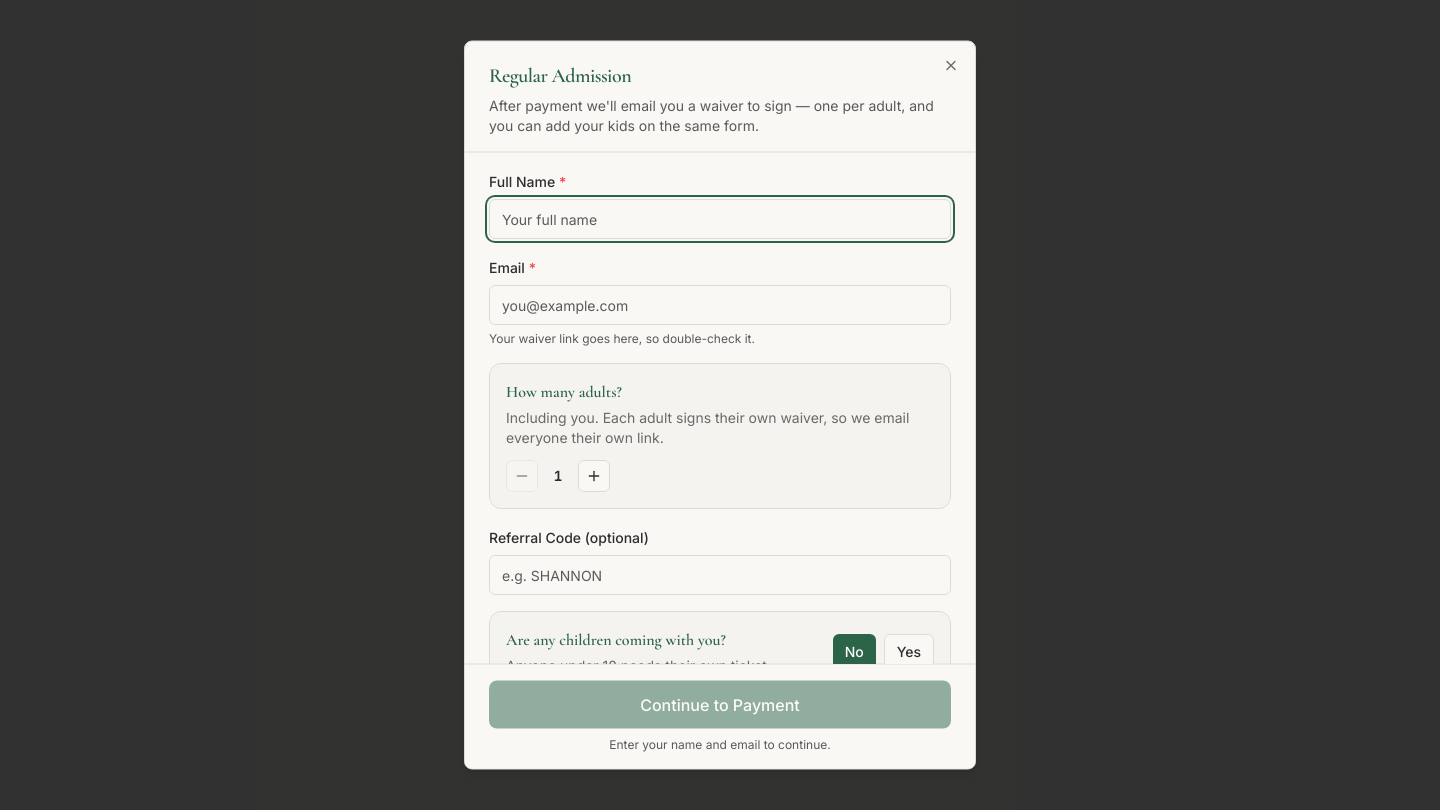
the Yes path still prices correctly › two rapid taps count as two tickets, not one
Type "Test Buyer" into the field with placeholder "Your full name" at (720, 218), box [489, 198, 951, 238]
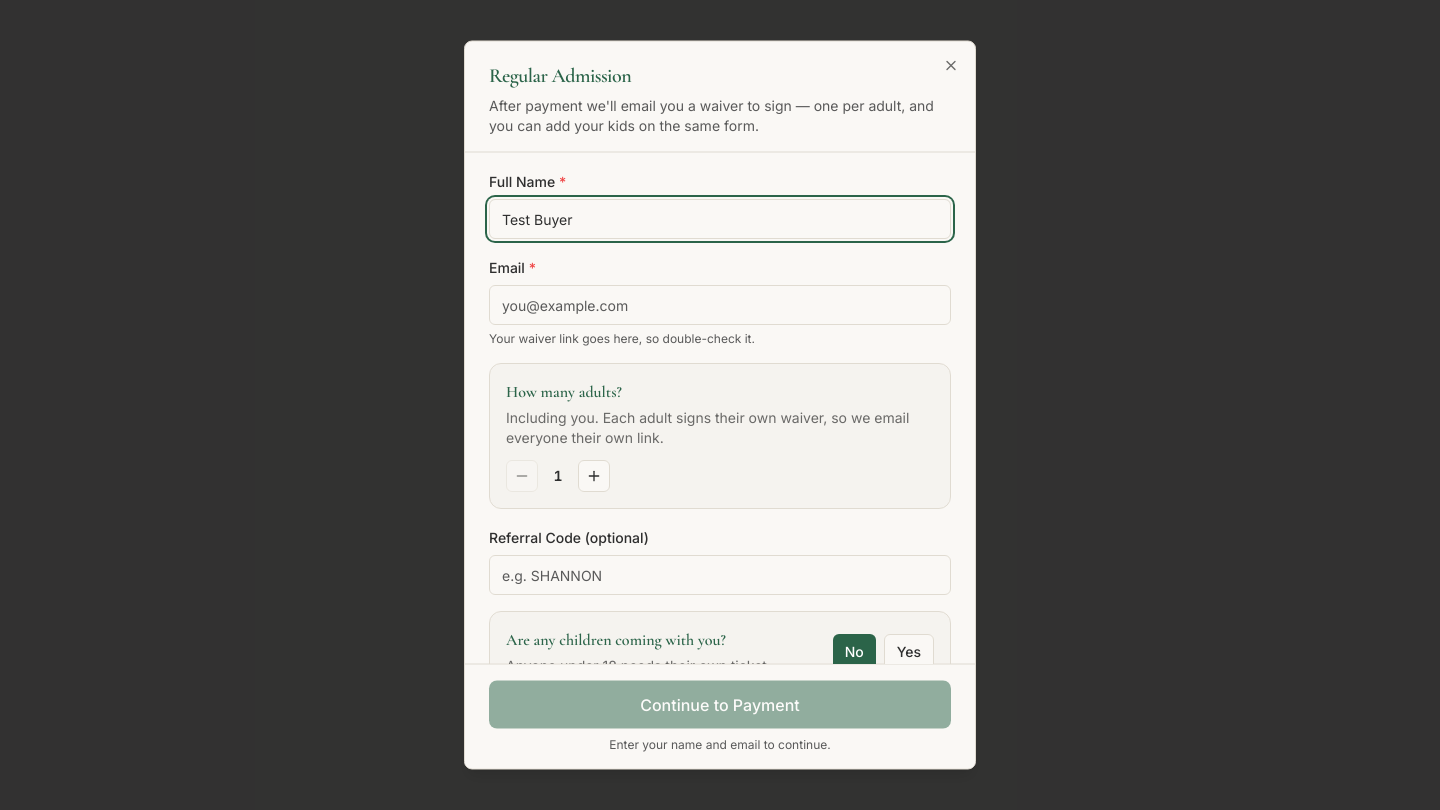
Type "buyer@example.com" into the field with placeholder "you@example.com" at (720, 304), box [489, 284, 951, 324]
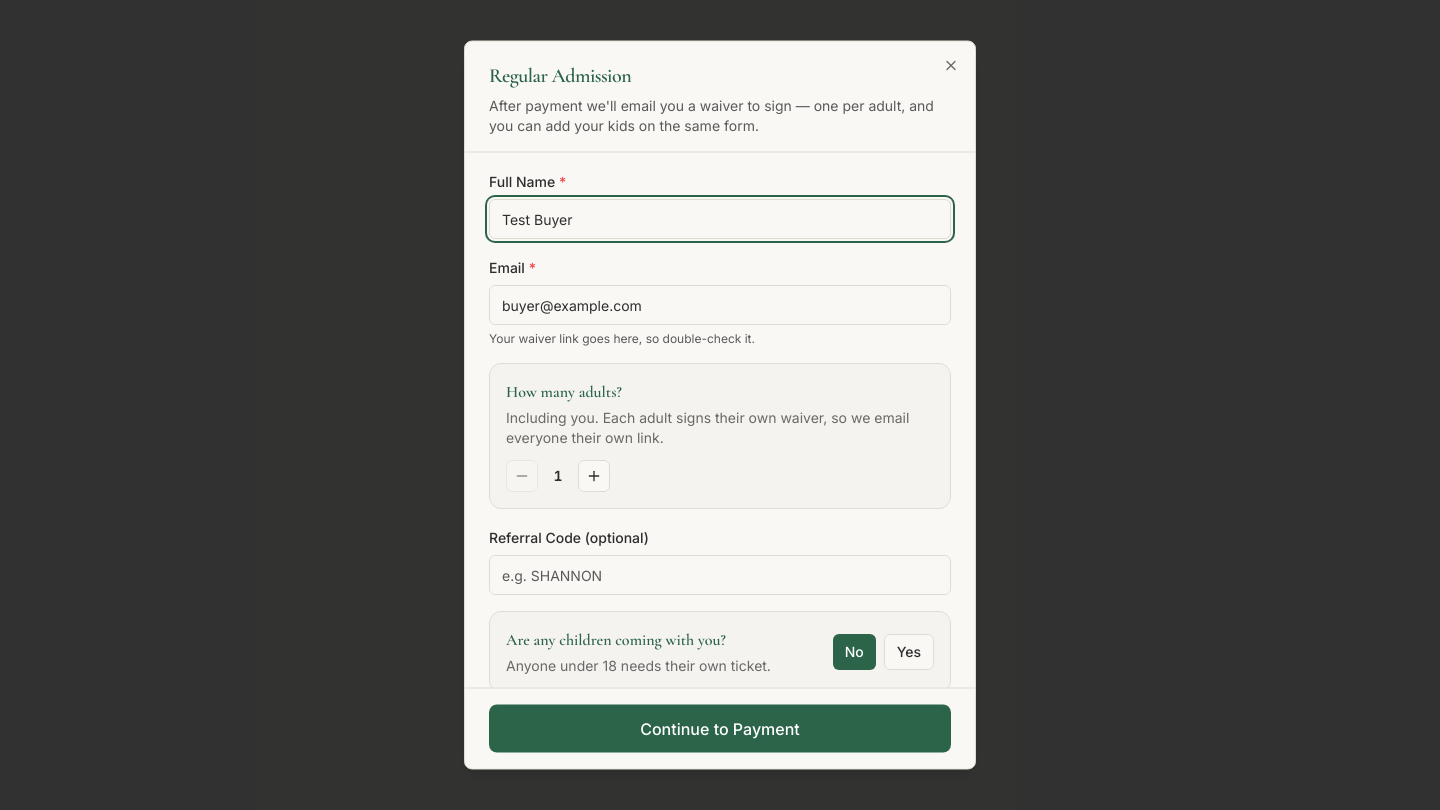
Click the button with test id "minors-yes" at (909, 652), box [884, 634, 934, 670]
(page scrolled)
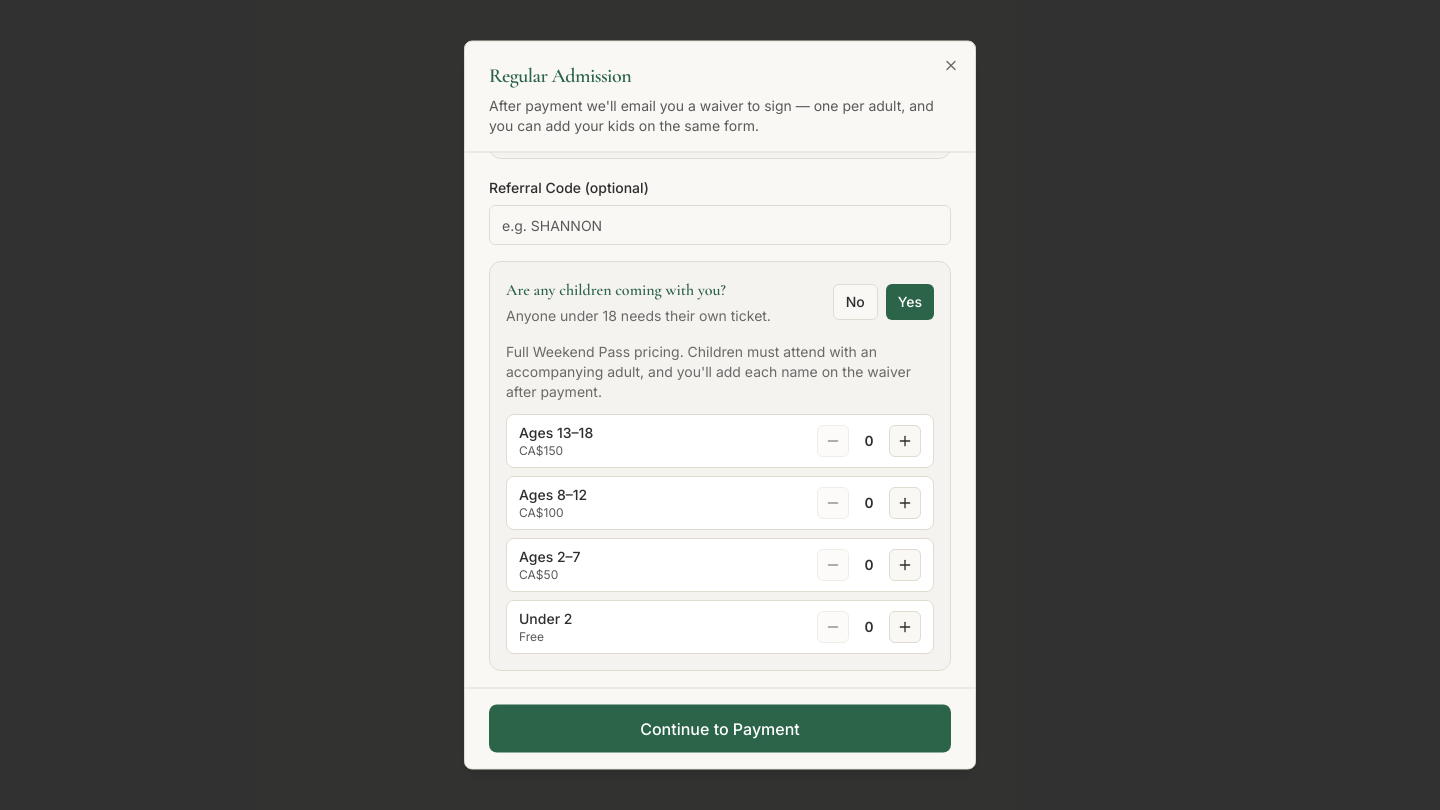
Click the button named "Add one Ages 8–12 ticket" at (905, 504), box [889, 488, 921, 520]
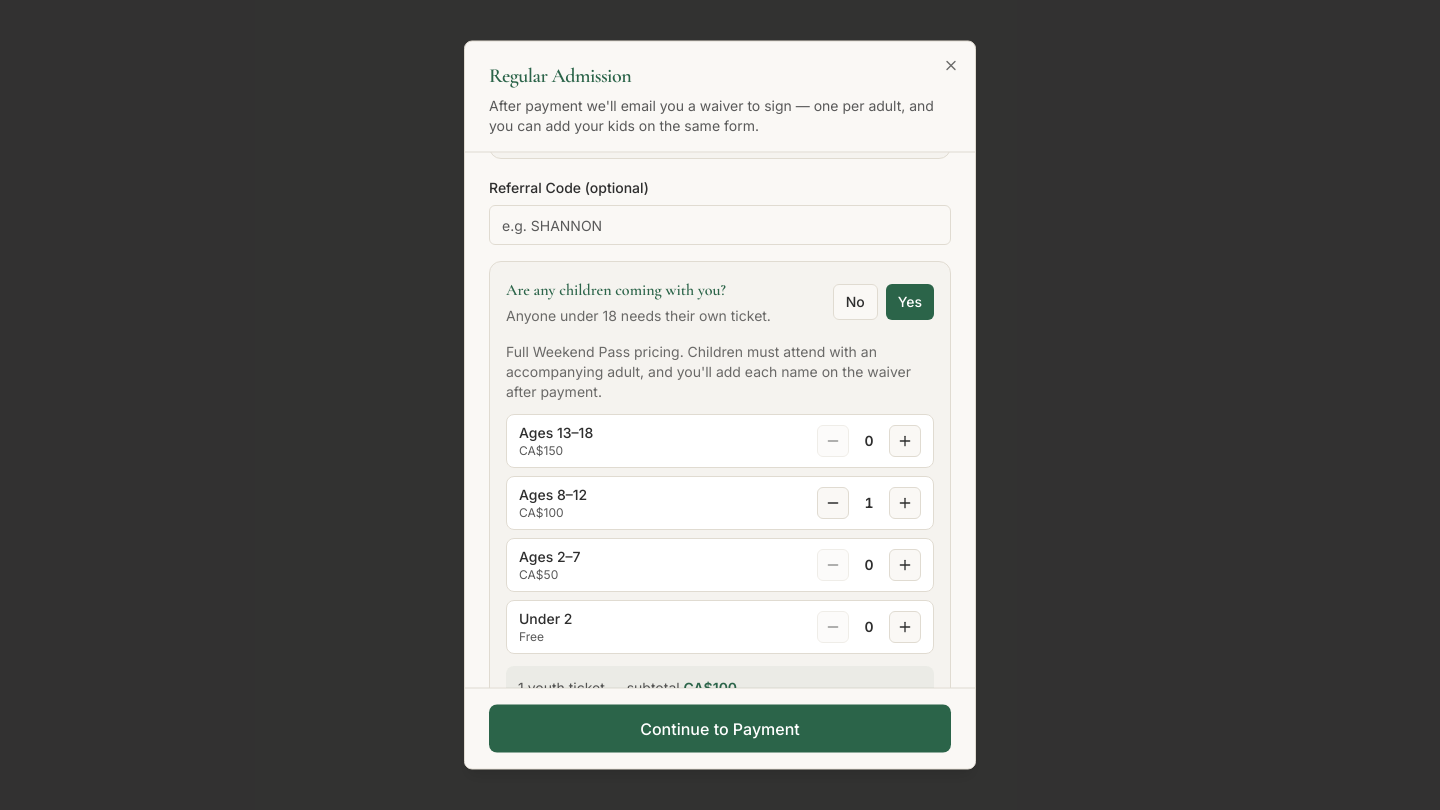
Click the button named "Add one Ages 8–12 ticket" at (905, 504), box [889, 488, 921, 520]
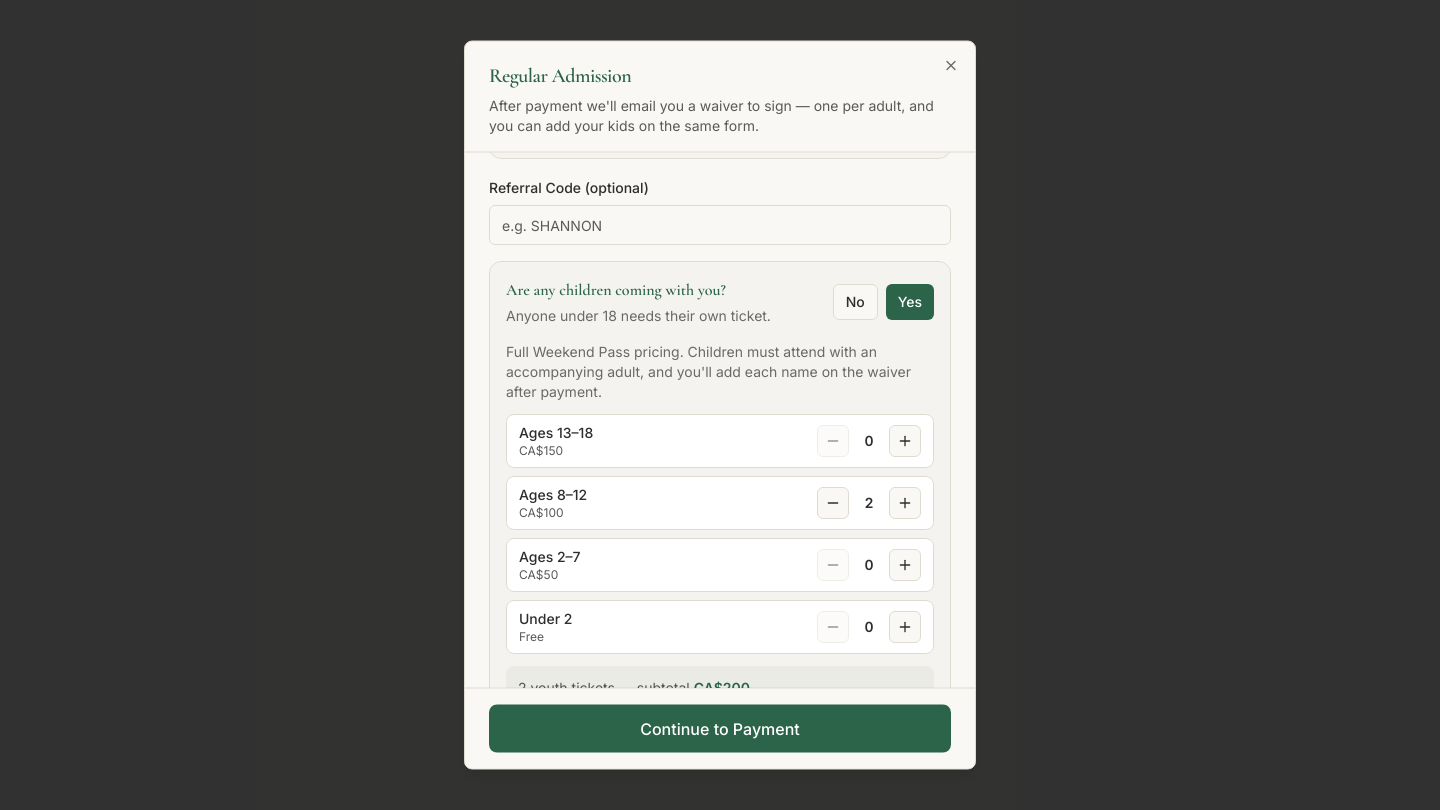
Expected: the text with test id "youth-count-8-12" reads "2", [864, 494, 874, 512]
